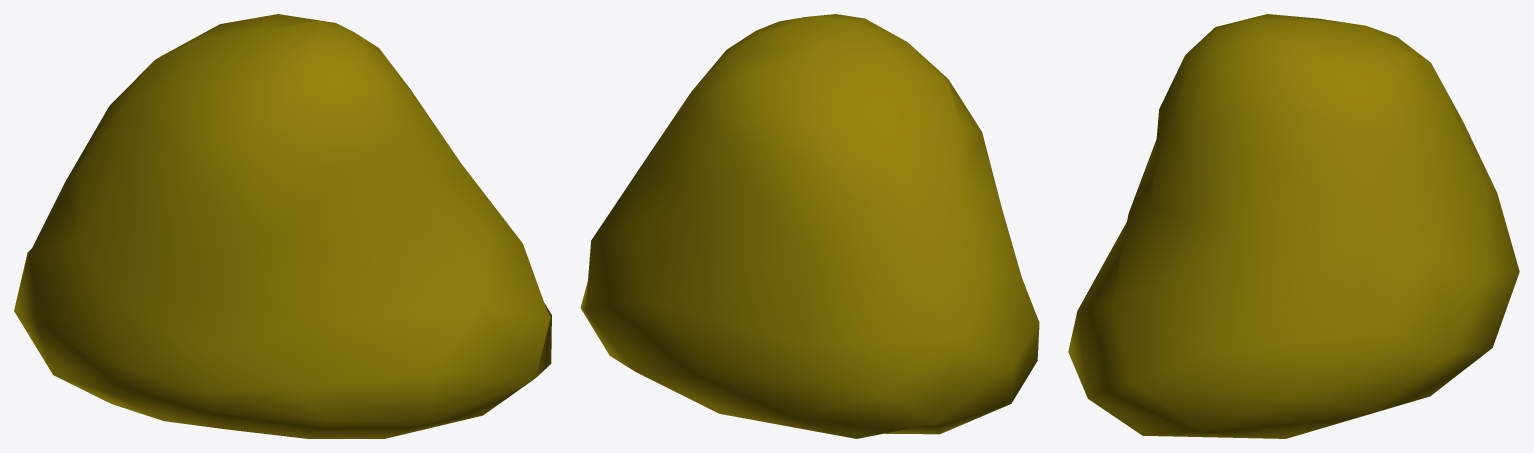
File: Gold-Nugget-1.fbx
3 views of the same model, side by side, from view 1: azimuth 30°, elevation 25°; view 2: azimuth 150°, elevation 25°; view 3: azimuth 270°, elevation 25° (orthographic).
Parts seen in each view (by area): view 1: Stone.001; view 2: Stone.001; view 3: Stone.001.
Part boxes in pixels (x1,y1,x2,y2): Stone.001: (14,14,551,438); Stone.001: (580,14,1039,438); Stone.001: (1068,14,1519,438).
Size of the model in its own units: 172 by 130 by 153.
